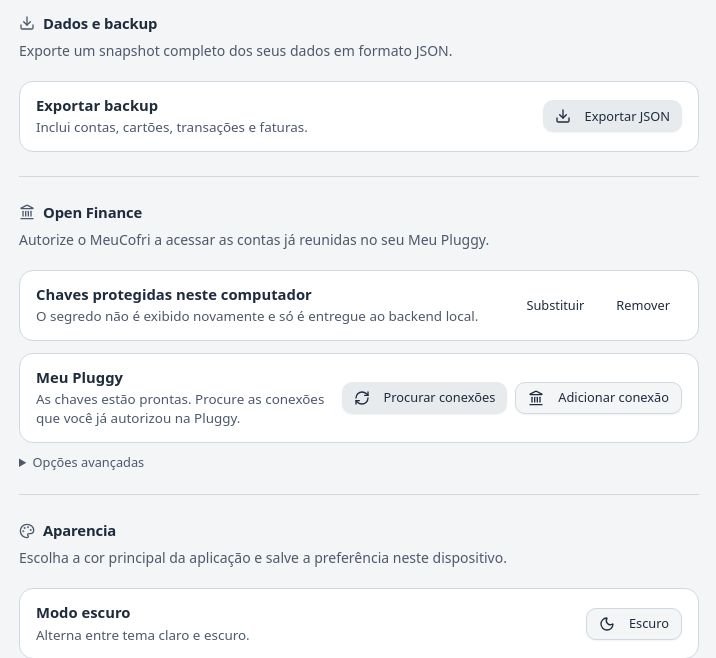
Test case: SettingsView › opens Pluggy Connect restricted to Meu Pluggy and reports success
Click the button "Adicionar conexão" at (599, 398), box x1=515 y1=382 x2=682 y2=414
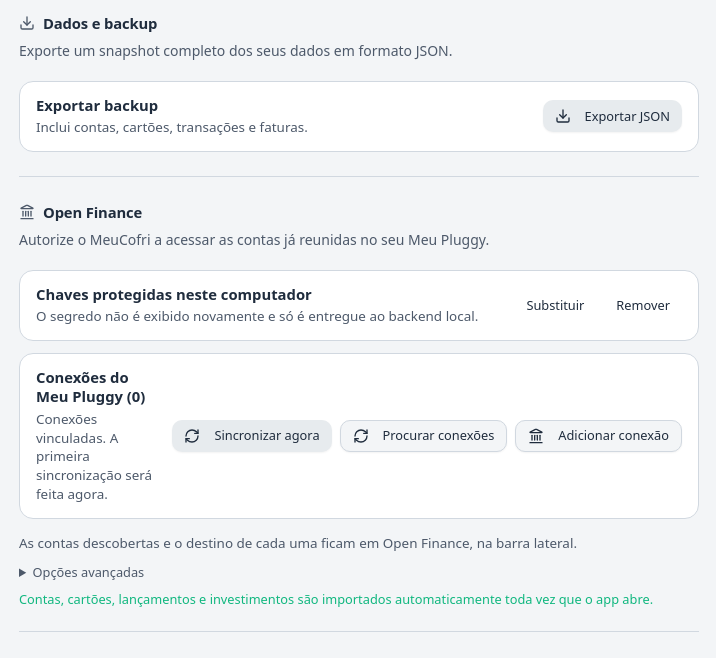
Check: the text "Contas, cartões, lançamentos e investimentos" is shown, box x1=19 y1=590 x2=653 y2=608
